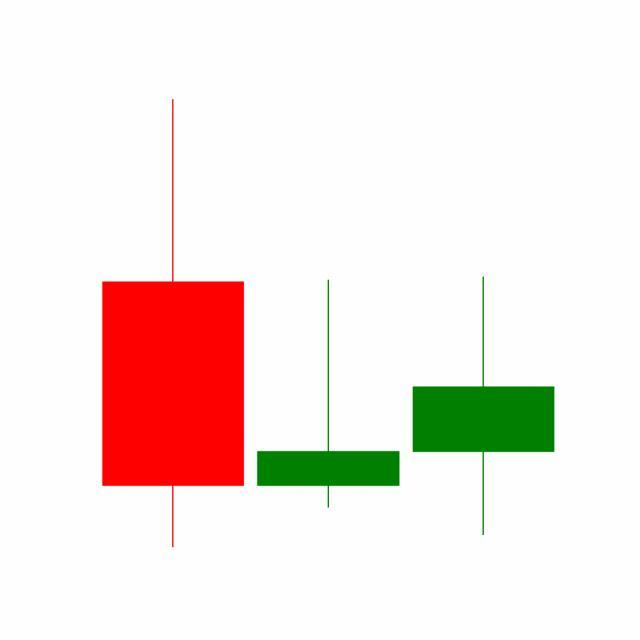Hammer: (406, 275, 562, 540)
